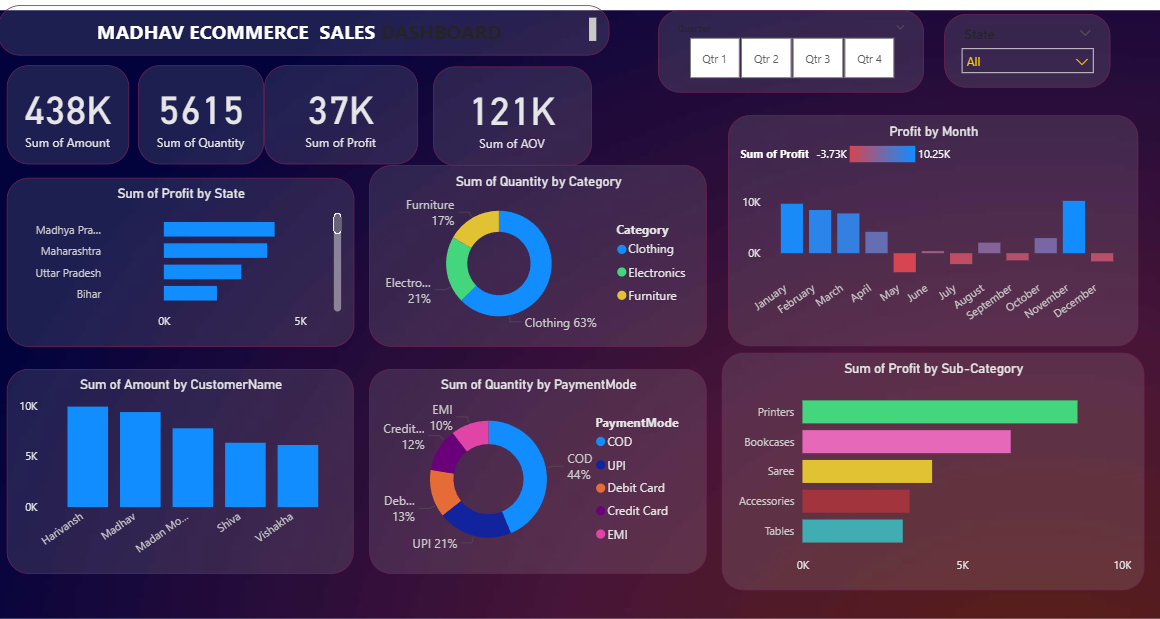

The dashboard page shown, as its layout file describes it:
{"tool":"powerbi","page":{"name":"Page 1","canvas":[1280,720],"ordinal":0},"visuals":[{"type":"textbox","box":[0,17.8,671,54.9],"z":0},{"type":"columnChart","title":" Profit by Month","fields":{"Category":["Orders.Order Date.Variation.Date Hierarchy.Month"],"Y":["Details.Profit"]},"box":[801.4,138.6,450.1,253.9],"z":1000},{"type":"barChart","fields":{"Category":["Details.Sub-Category"],"Y":["Details.Profit"]},"box":[794.5,399.3,463.8,260.7],"z":2000},{"type":"donutChart","fields":{"Category":["Details.Category"],"Y":["Details.Quantity"]},"box":[407.5,193.5,370.5,199],"z":3000},{"type":"donutChart","fields":{"Y":["Details.Quantity"],"Category":["Details.PaymentMode"]},"box":[407.5,417.2,370.5,225],"z":4000},{"type":"card","fields":{"Values":["Details.Amount"]},"box":[9.6,83.7,134.5,108.4],"z":5000},{"type":"card","fields":{"Values":["Details.Quantity"]},"box":[153.7,83.7,138.6,108.4],"z":6000},{"type":"card","fields":{"Values":["Details.Profit"]},"box":[292.3,83.7,168.8,108.4],"z":7000},{"type":"card","fields":{"Values":["Details.AOV"]},"box":[477.5,85.1,174.3,108.4],"z":8000},{"type":"barChart","fields":{"Category":["Orders.State"],"Y":["Details.Profit"]},"box":[9.6,207.2,381.5,185.2],"z":9000},{"type":"columnChart","fields":{"Category":["Orders.CustomerName"],"Y":["Details.Amount"]},"box":[10,417,381,225],"z":10000},{"type":"slicer","fields":{"Values":["Orders.Order Date.Variation.Date Hierarchy.Quarter"]},"box":[724.5,23.3,292.3,90.6],"z":11000},{"type":"slicer","fields":{"Values":["Orders.State"]},"box":[1038.8,27.4,182.5,81],"z":12000}]}

Visuals, with their boxes on the page's 1280x720 design canvas (x1, y1, x2, y2). These are canvas units, not pixel positions in the 1160x619 screenshot, which may show the page scaled, cropped or inside an application window:
textbox: box(0, 18, 671, 73)
" Profit by Month" columnChart: box(801, 139, 1252, 392)
barChart - Details.Sub-Category x Details.Profit: box(794, 399, 1258, 660)
donutChart - Details.Category x Details.Quantity: box(408, 194, 778, 392)
donutChart - Details.Quantity x Details.PaymentMode: box(408, 417, 778, 642)
card - Details.Amount: box(10, 84, 144, 192)
card - Details.Quantity: box(154, 84, 292, 192)
card - Details.Profit: box(292, 84, 461, 192)
card - Details.AOV: box(478, 85, 652, 194)
barChart - Orders.State x Details.Profit: box(10, 207, 391, 392)
columnChart - Orders.CustomerName x Details.Amount: box(10, 417, 391, 642)
slicer - Orders.Order Date.Variation.Date Hierarchy.Quarter: box(724, 23, 1017, 114)
slicer - Orders.State: box(1039, 27, 1221, 108)
